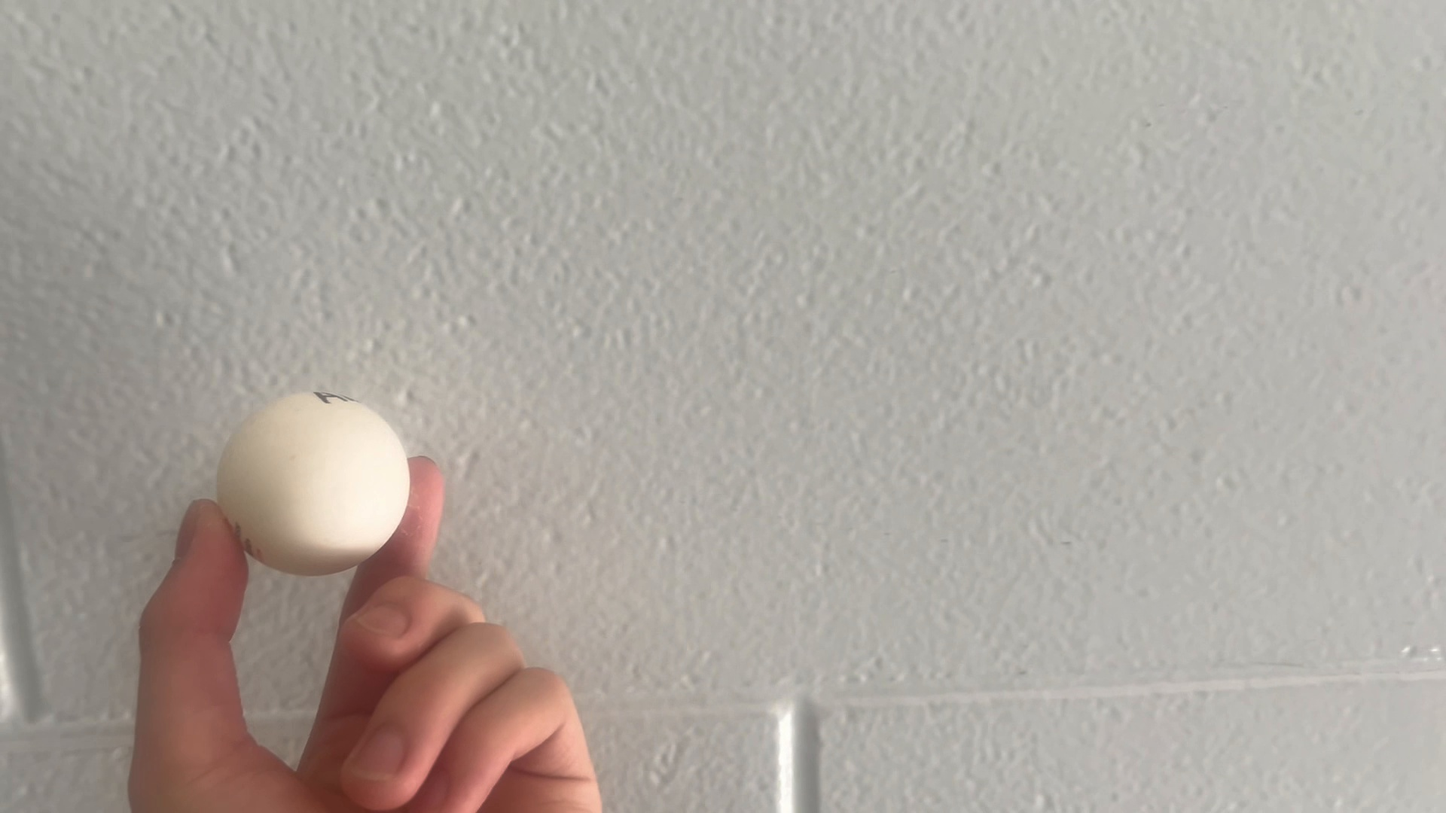Ball: (197, 376, 405, 591)
